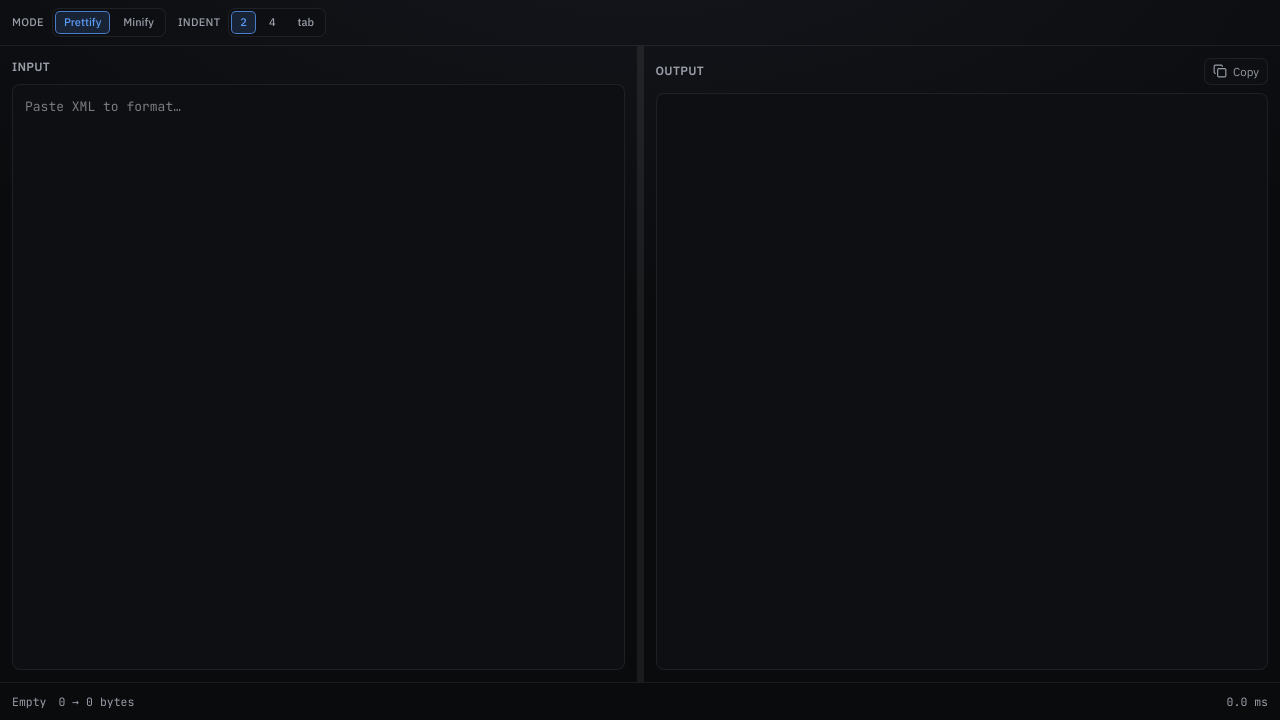
Test: XmlFormatterTool › prettifies instantly on input with no format button
This screenshot has width=1280, height=720.
Type "<a><b>1</b></a>" into the text box with id "xml-input".
click(318, 377); type("<a><b>1</b></a>")  # box x1=12 y1=84 x2=624 y2=670
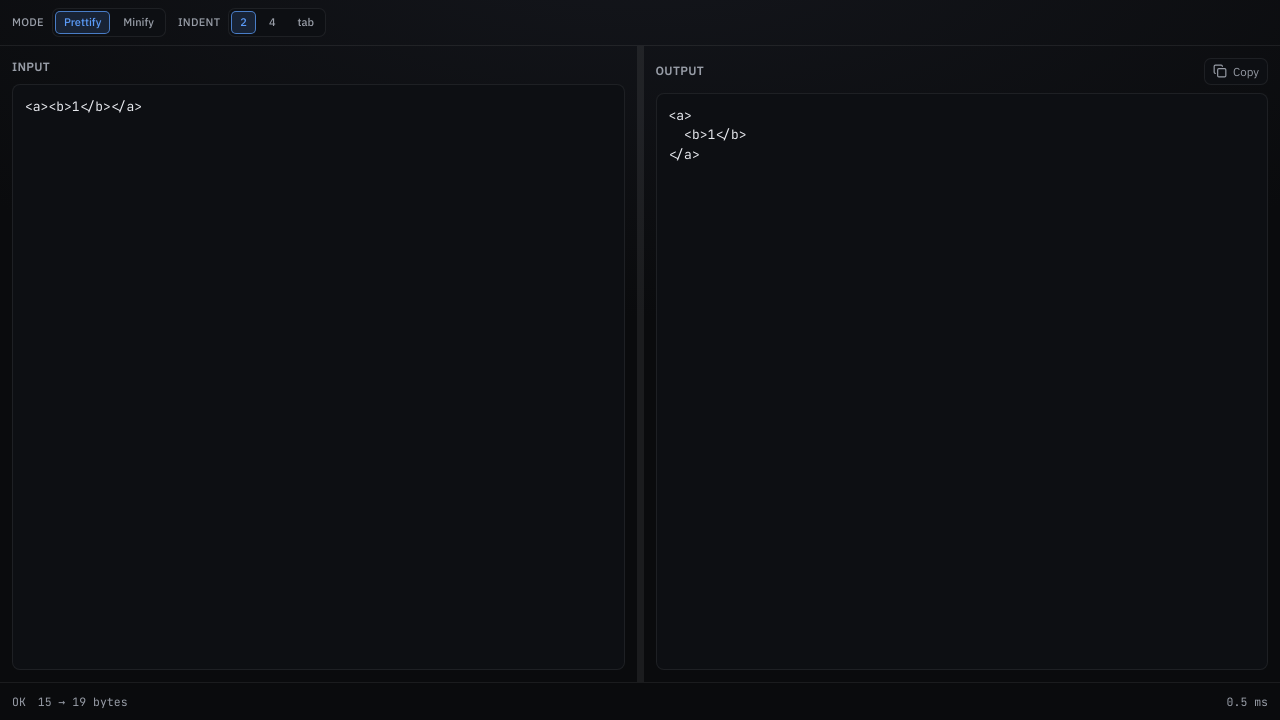
Check: the text named "byte count" is shown, box x1=38 y1=693 x2=128 y2=710
Check: the text named "parse state" reads "OK", box x1=12 y1=694 x2=26 y2=709
